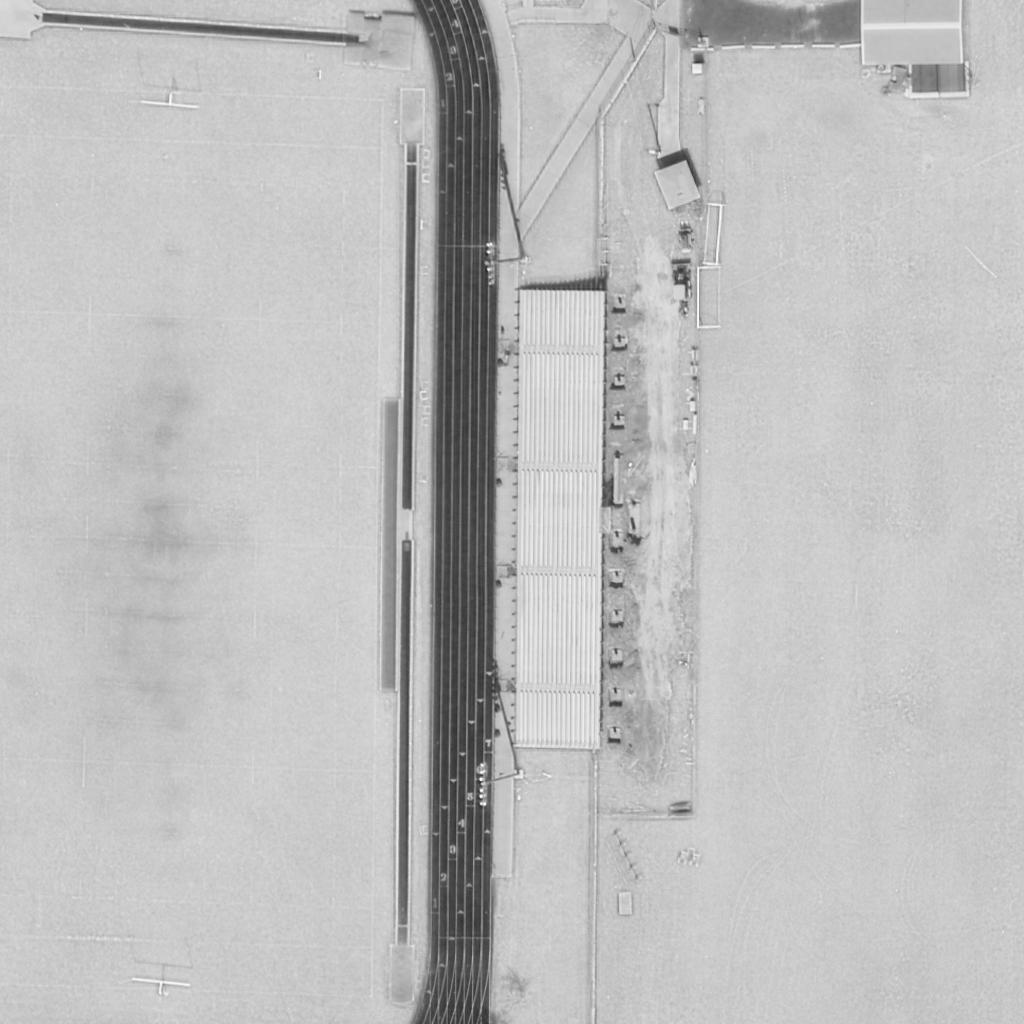vehicle: (672, 261, 694, 317)
